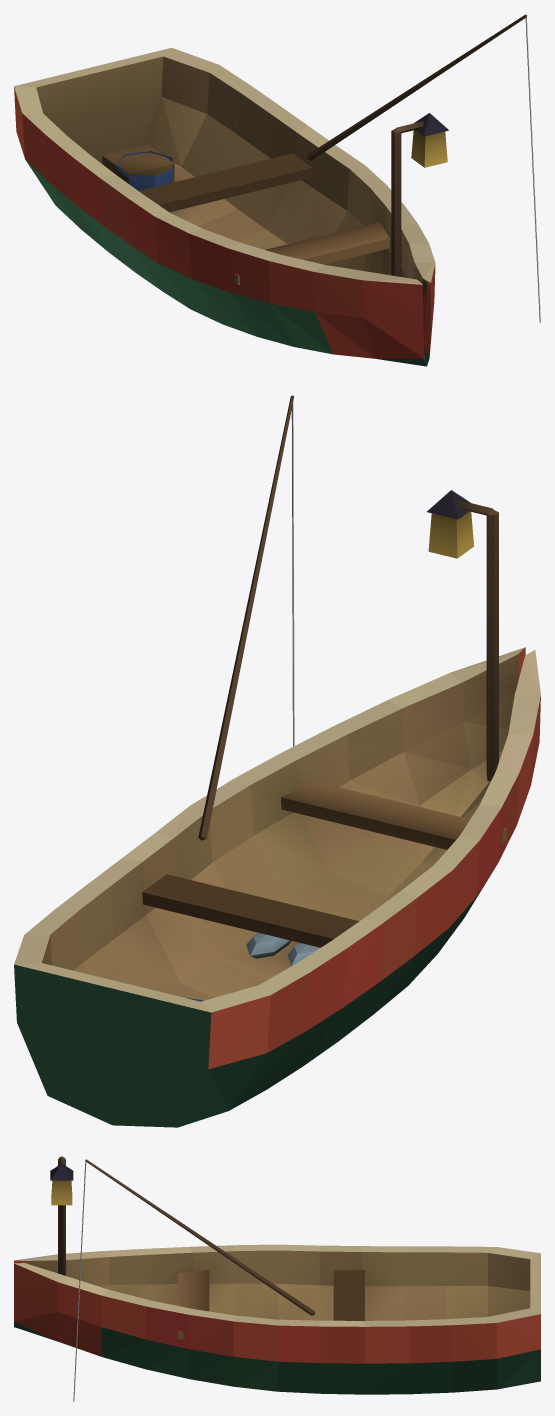
File: Boat_Meadow_3.fbx
3 views of the same model, one above another, from view 1: azimuth 30°, elevation 25°; view 2: azimuth 150°, elevation 25°; view 3: azimuth 270°, elevation 25° (orthographic). The views are drawn at different scales.
Parts seen in each view (by area): view 1: Boat_Meadow_3; view 2: Boat_Meadow_3; view 3: Boat_Meadow_3.
Part boxes in pixels (x1,y1,x2,y2): Boat_Meadow_3: (14,14,540,366); Boat_Meadow_3: (14,395,540,1127); Boat_Meadow_3: (14,1156,540,1401).
Bounding box in the file's own units: 1.95 × 2.52 × 4.4.
